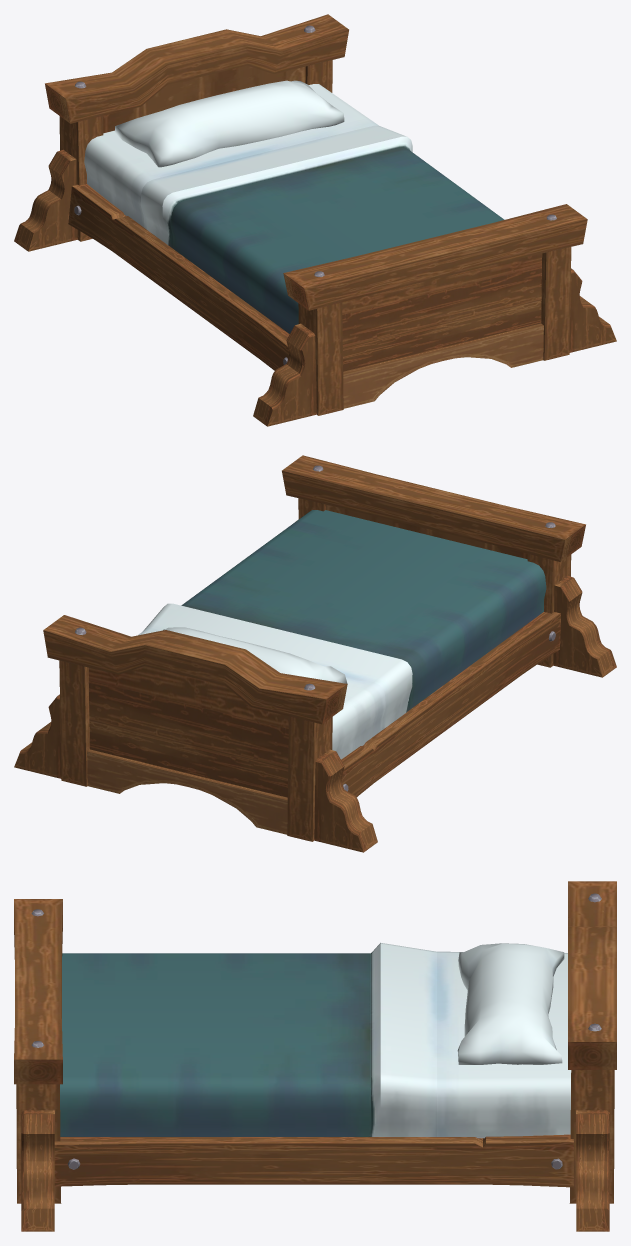
Rendered from Bed_Twin1.gltf.
The picture shows the model from 3 angles, top to bottom: view 1: azimuth 30°, elevation 25°; view 2: azimuth 150°, elevation 25°; view 3: azimuth 270°, elevation 25°; orthographic projection. The views are drawn at different scales.
Visible parts, largest first — view 1: Bed_Twin1; view 2: Bed_Twin1; view 3: Bed_Twin1.
Boxes of the visible parts, left/top/right/bottom form: Bed_Twin1: left=14, top=14, right=616, bottom=426; Bed_Twin1: left=14, top=455, right=616, bottom=852; Bed_Twin1: left=14, top=881, right=616, bottom=1231.
Size of the model in its own units: 1.88 by 0.8051 by 2.41.
Materials: 3 (3 with a texture image).
